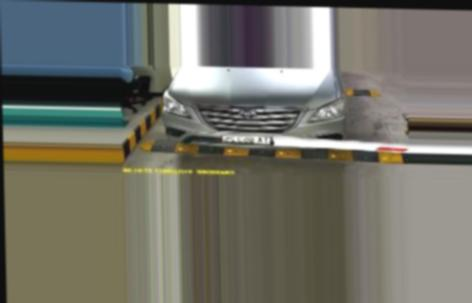License_Plate: (220, 133, 276, 149)
